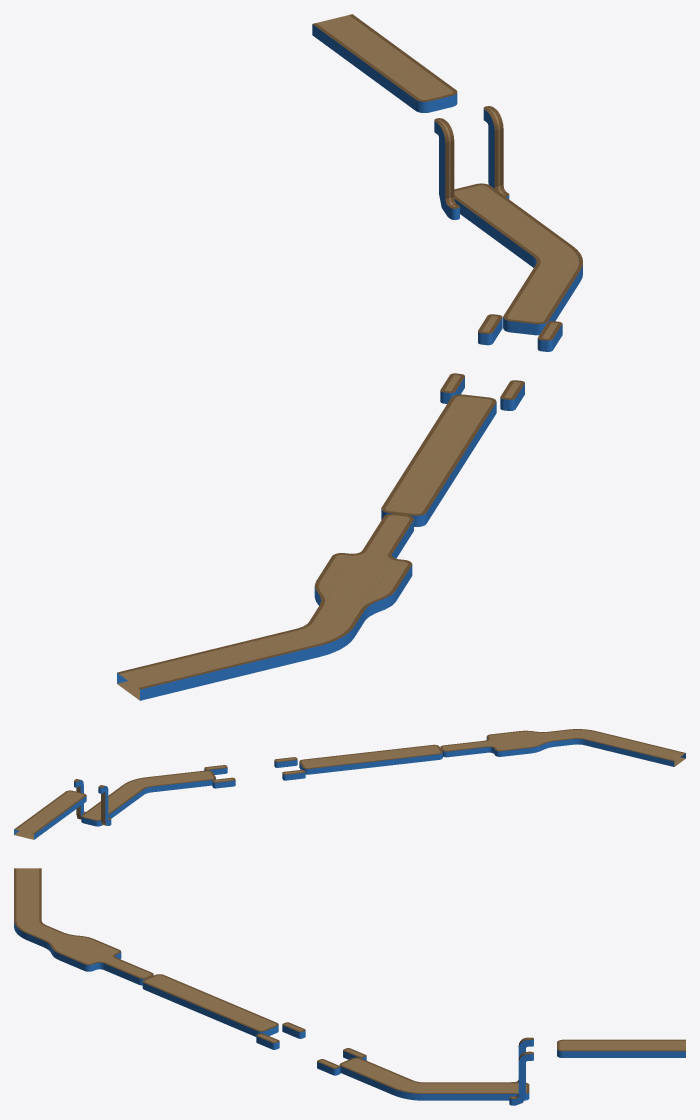
File: ramp_22.FBX
3 renders of one model, top to bottom at view 1: azimuth 30°, elevation 25°; view 2: azimuth 150°, elevation 25°; view 3: azimuth 270°, elevation 25°, orthographic. The views are drawn at different scales.
Parts seen in each view (by area): view 1: ramp_22; view 2: ramp_22; view 3: ramp_22.
Part boxes in pixels (left/top/right/bottom): ramp_22: left=117, top=14, right=582, bottom=700; ramp_22: left=14, top=729, right=685, bottom=839; ramp_22: left=14, top=868, right=685, bottom=1105.
Size of the model in its own units: 10710 by 1120 by 13313.
